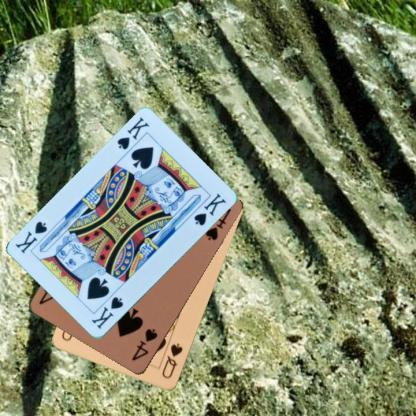4s: (128, 326, 160, 363)
Ks: (114, 114, 150, 152), (88, 295, 124, 330)
Qs: (160, 340, 184, 380)
